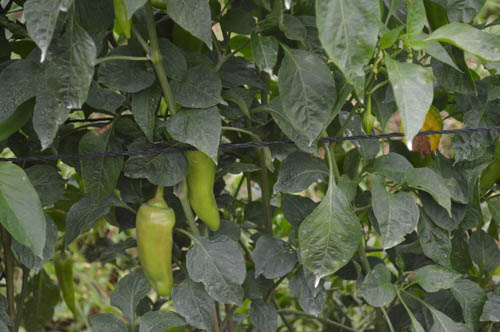ChiliPepper: (135, 205, 175, 298), (185, 145, 225, 230), (57, 254, 81, 315)
